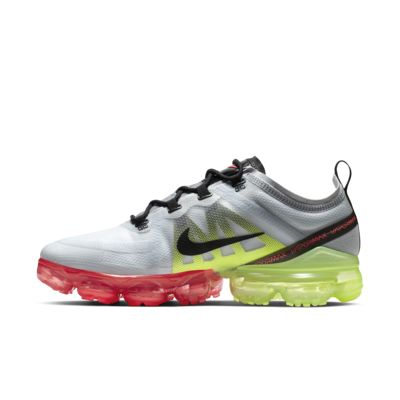nike: (173, 225, 266, 255)
